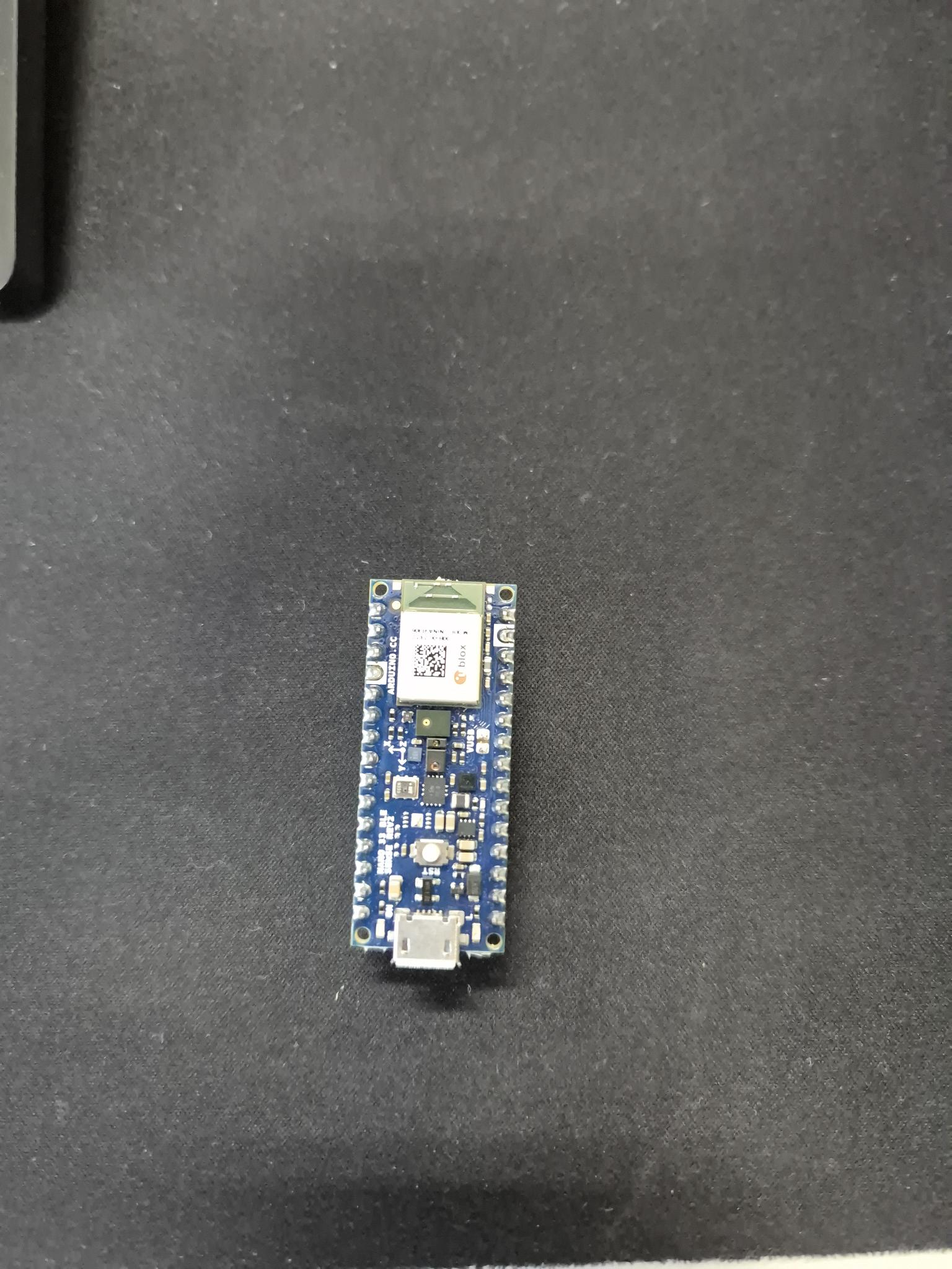arduino-nano-ble-sense: (351, 578, 516, 969)
